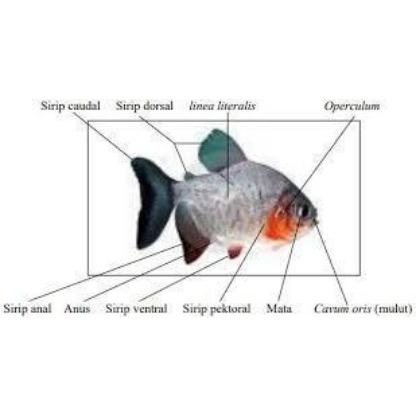ikan-pacu: (136, 152, 320, 254)
